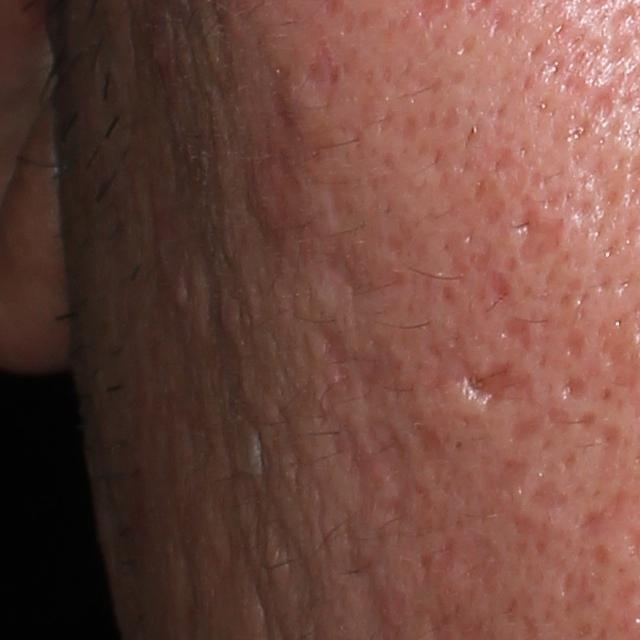atrophic_scar: (417, 341, 533, 406), (301, 304, 358, 396), (274, 501, 313, 622), (512, 194, 566, 267), (527, 458, 571, 513), (323, 244, 370, 294), (577, 82, 619, 127), (507, 408, 547, 448), (500, 314, 534, 356), (481, 265, 516, 305), (558, 373, 595, 407), (574, 506, 607, 543)
